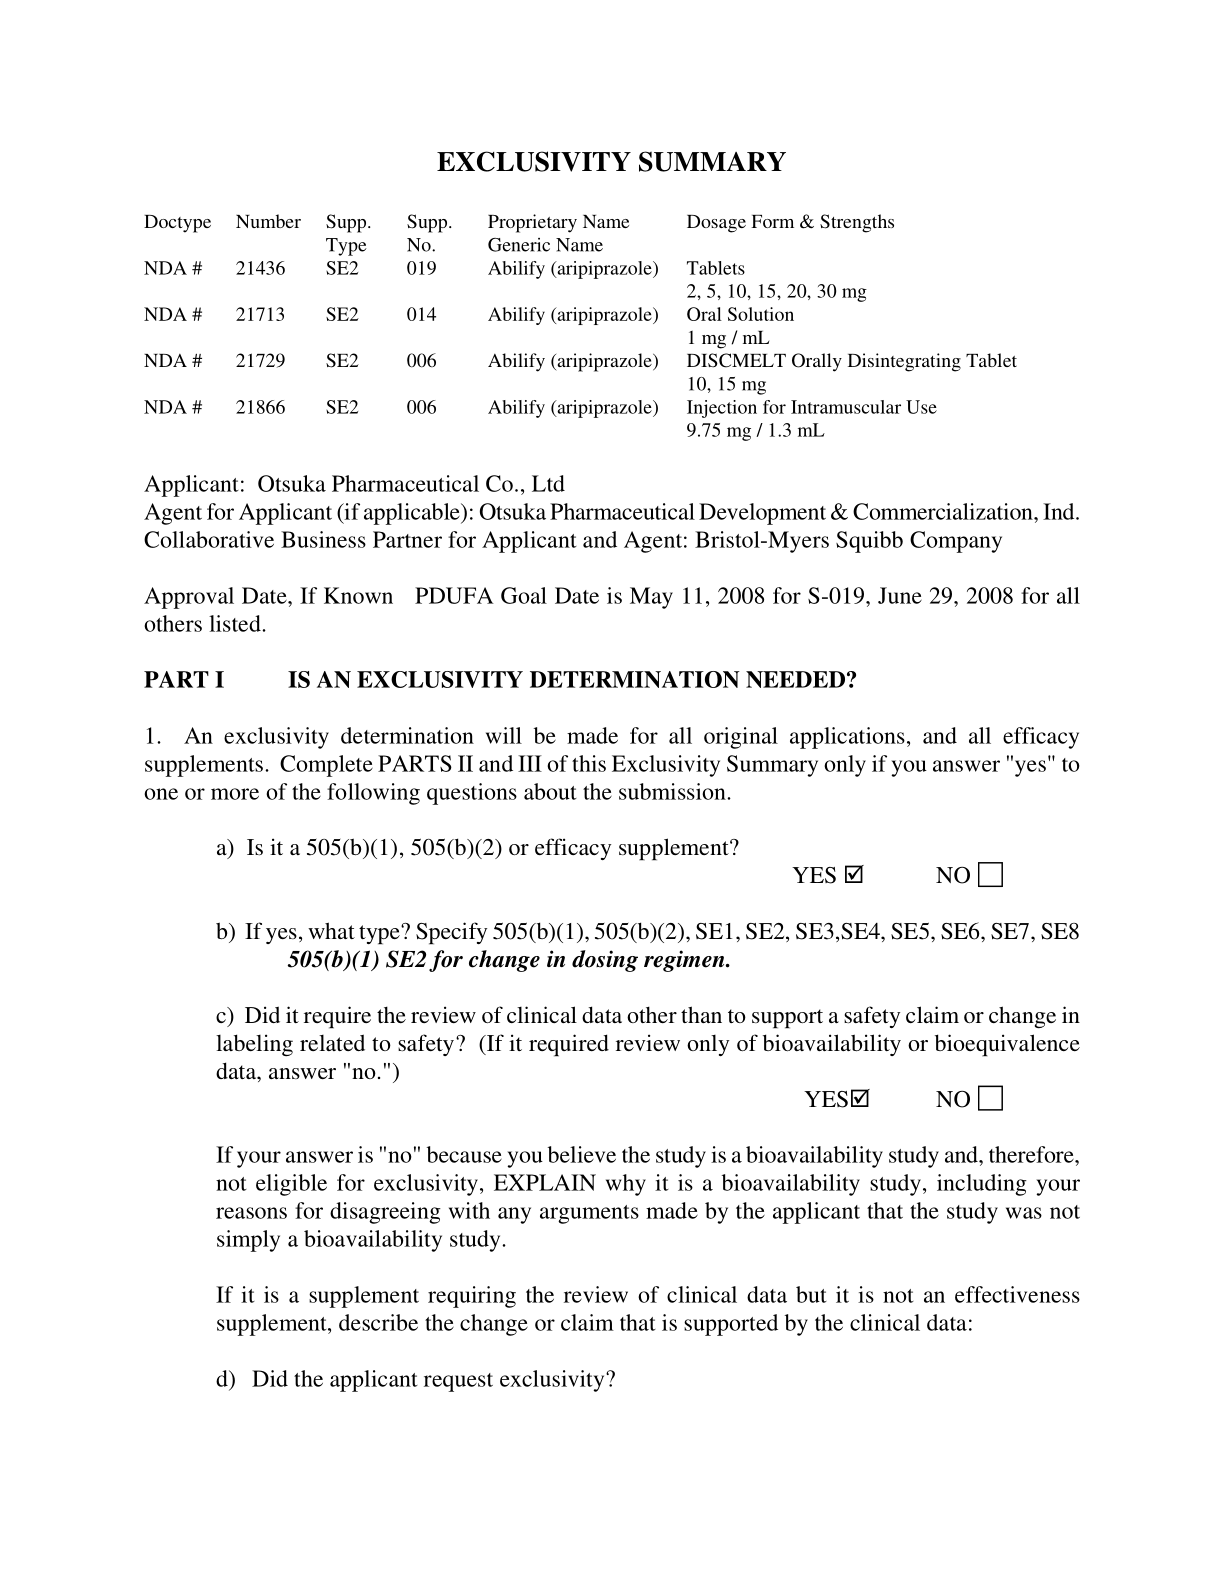nolines: (138, 210, 1020, 444)
